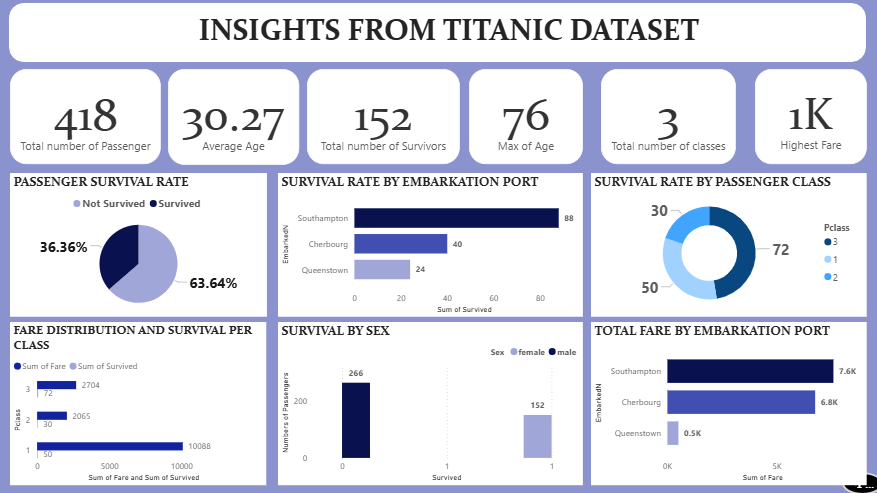

This screenshot's page, from the dashboard's own definition file:
{"tool":"powerbi","page":{"name":"Page 1","canvas":[1280,720],"ordinal":0},"visuals":[{"type":"card","fields":{"Values":["CountNonNull(tested.PassengerId)"]},"box":[23,106.6,217.4,136.8],"z":0},{"type":"card","fields":{"Values":["Avg(tested.Age)"]},"box":[250.6,106.6,188.6,138.2],"z":1000},{"type":"card","fields":{"Values":["Max(tested.Age)"]},"box":[684,106.6,164.2,136.8],"z":2000},{"type":"card","fields":{"Values":["Sum(tested.Survived)"]},"box":[450.7,106.6,220.3,136.8],"z":3000},{"type":"card","fields":{"Values":["Count(tested.Pclass)"]},"box":[874.1,106.6,194.4,136.8],"z":4000},{"type":"pieChart","title":"PASSENGER SURVIVAL RATE","fields":{"Y":["CountNonNull(tested.PassengerId)"],"Category":["tested.NSurvived"]},"box":[23,256.3,370.1,207.4],"z":5000},{"type":"clusteredColumnChart","title":"SURVIVAL BY SEX","fields":{"Series":["tested.Sex"],"Y":["CountNonNull(tested.PassengerId)"],"Category":["tested.Survived"]},"box":[409,470.9,439.2,234.7],"z":6000},{"type":"donutChart","title":"SURVIVAL RATE BY PASSENGER CLASS","fields":{"Category":["tested.Pclass"],"Y":["Sum(tested.Survived)"]},"box":[859.7,256.3,397.4,207.4],"z":8000},{"type":"card","fields":{"Values":["Max(tested.Fare)"]},"box":[1095.8,106.6,161.3,136.8],"z":9000},{"type":"clusteredBarChart","title":"FARE DISTRIBUTION AND SURVIVAL PER CLASS","fields":{"Y":["Sum(tested.Fare)","Sum(tested.Survived)"],"Category":["tested.Pclass"]},"box":[23,470.9,368.6,234.7],"z":10000},{"type":"barChart","title":"SURVIVAL RATE BY EMBARKATION PORT","fields":{"Category":["tested.EmbarkedN"],"Y":["Sum(tested.Survived)"]},"box":[409,256.3,439.2,207.4],"z":11000},{"type":"clusteredBarChart","title":"TOTAL FARE BY EMBARKATION PORT","fields":{"Category":["tested.EmbarkedN"],"Y":["Sum(tested.Fare)"]},"box":[859.7,470.9,397.4,234.7],"z":12000},{"type":"shape","box":[21.6,11.5,1234.1,85],"z":13000},{"type":"textbox","box":[289.4,18.7,761.8,70.6],"z":14000}]}

Visuals, with their boxes in screenshot pixels (x1, y1, x2, y2), scaled from the page's 1280x720 canvas onto the 877x493 screenshot:
card - CountNonNull(tested.PassengerId): (16, 73, 165, 167)
card - Avg(tested.Age): (172, 73, 301, 168)
card - Max(tested.Age): (469, 73, 581, 167)
card - Sum(tested.Survived): (309, 73, 460, 167)
card - Count(tested.Pclass): (599, 73, 732, 167)
"PASSENGER SURVIVAL RATE" pieChart: (16, 175, 269, 318)
"SURVIVAL BY SEX" clusteredColumnChart: (280, 322, 581, 483)
"SURVIVAL RATE BY PASSENGER CLASS" donutChart: (589, 175, 861, 318)
card - Max(tested.Fare): (751, 73, 861, 167)
"FARE DISTRIBUTION AND SURVIVAL PER CLASS" clusteredBarChart: (16, 322, 268, 483)
"SURVIVAL RATE BY EMBARKATION PORT" barChart: (280, 175, 581, 318)
"TOTAL FARE BY EMBARKATION PORT" clusteredBarChart: (589, 322, 861, 483)
shape: (15, 8, 860, 66)
textbox: (198, 13, 720, 61)
